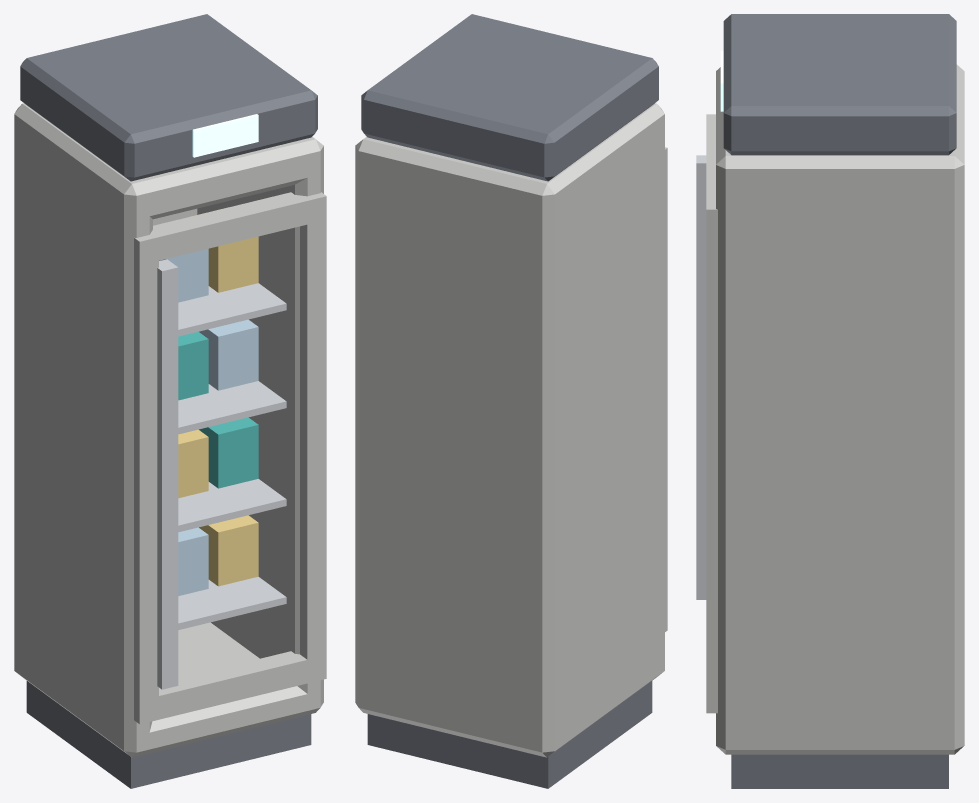
Rendered from ct-room-fridge.glb.
The picture shows the model from 3 angles, left to right: view 1: azimuth 30°, elevation 25°; view 2: azimuth 150°, elevation 25°; view 3: azimuth 270°, elevation 25°; orthographic projection. The views are drawn at different scales.
Visible parts, largest first — view 1: medicine-fridge; view 2: medicine-fridge; view 3: medicine-fridge.
Boxes of the visible parts, x1,y1,x2,y2 form: medicine-fridge: (14, 14, 326, 788); medicine-fridge: (355, 14, 667, 788); medicine-fridge: (696, 14, 964, 788).
Bounding box in the file's own units: 0.6199 × 1.94 × 0.69.
